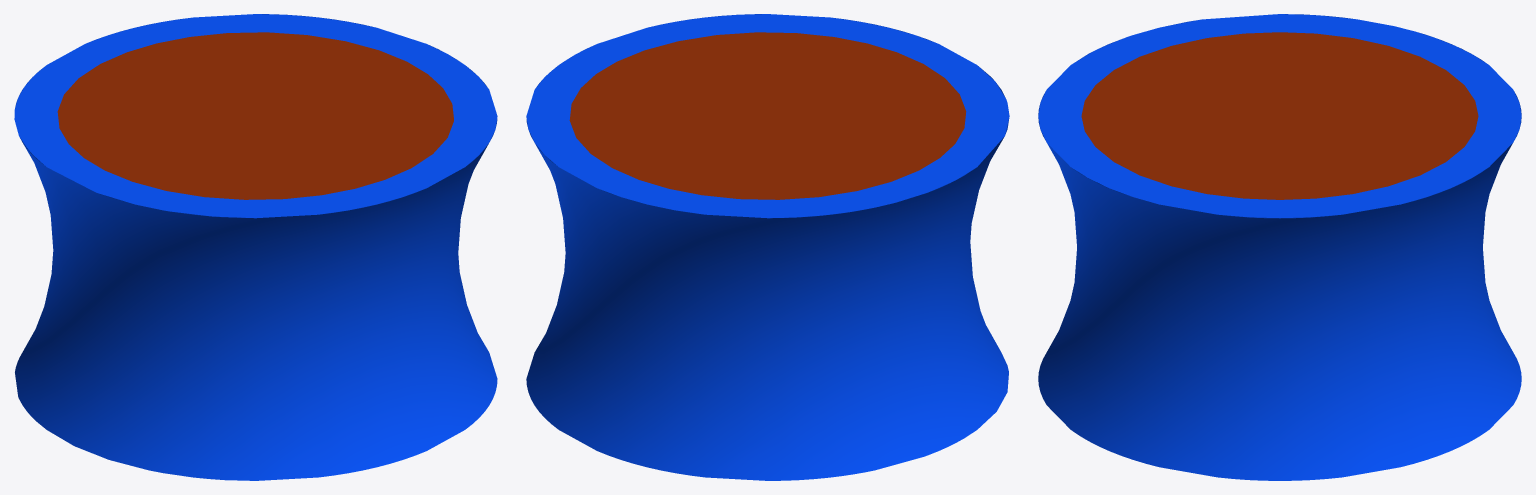
Rendered from pot2.fbx.
3 views of the same model, side by side, from view 1: azimuth 30°, elevation 25°; view 2: azimuth 150°, elevation 25°; view 3: azimuth 270°, elevation 25° (orthographic).
Parts seen in each view (by area): view 1: Pot_2, Dirt; view 2: Pot_2, Dirt; view 3: Pot_2, Dirt.
Part boxes in pixels (x1,y1,x2,y2): Pot_2: (14, 14, 497, 480); Dirt: (57, 32, 453, 199); Pot_2: (526, 14, 1009, 480); Dirt: (569, 32, 966, 199); Pot_2: (1038, 14, 1521, 480); Dirt: (1081, 32, 1478, 199).
Size of the model in its own units: 3.28 by 1.97 by 3.28.
